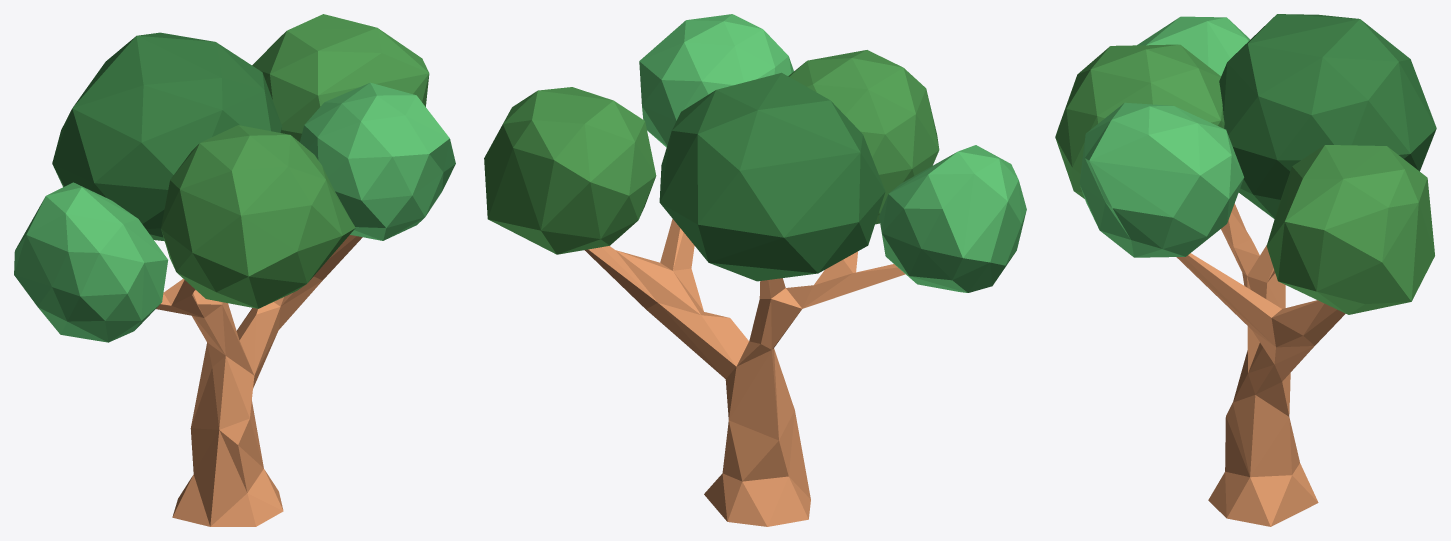
Rendered from tree.glb.
The picture shows the model from 3 angles, left to right: view 1: azimuth 30°, elevation 25°; view 2: azimuth 150°, elevation 25°; view 3: azimuth 270°, elevation 25°; orthographic projection. The views are drawn at different scales.
Visible parts, largest first — view 1: Tree; view 2: Tree; view 3: Tree.
Boxes of the visible parts, box(x1,y1,x2,y2) form: Tree: box(14, 14, 455, 526); Tree: box(484, 14, 1026, 526); Tree: box(1055, 14, 1436, 526).
Size of the model in its own units: 6.33 by 6.01 by 4.53.
